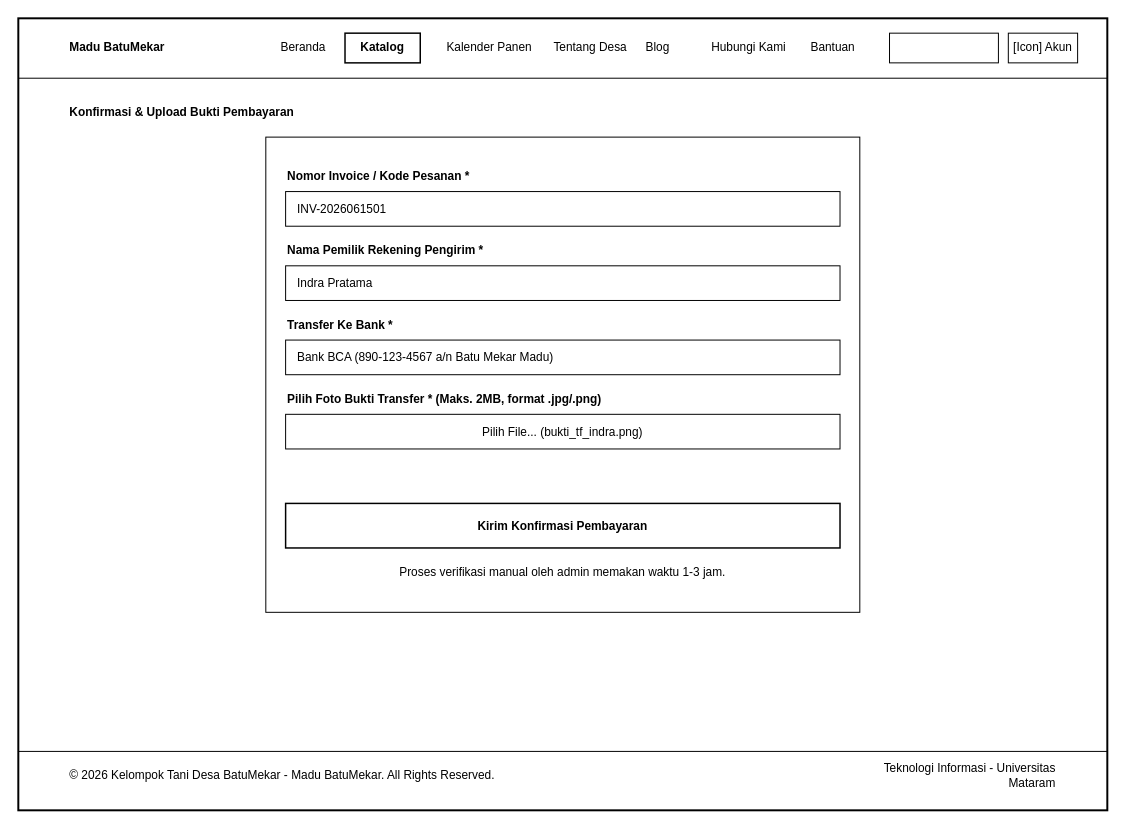
Image size: 1125x828. Some labels were removed from this diagram. The box of each missing label's shape, as (x1, y1, x2, y2) in pixels:
[Icon] Keranjang (2): (889, 32, 998, 63)
FORMULIR KONFIRMASI PEMBAYARAN: (265, 136, 860, 612)
